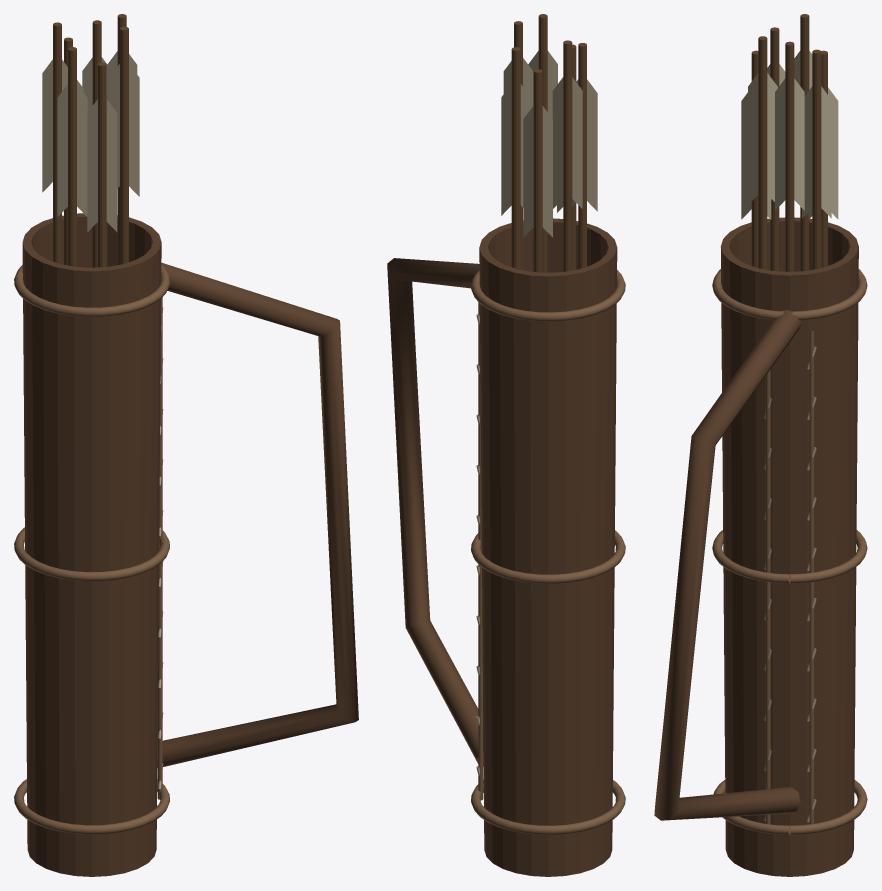
File: period_quiver.glb
3 renders of one model, left to right at view 1: azimuth 30°, elevation 25°; view 2: azimuth 150°, elevation 25°; view 3: azimuth 270°, elevation 25°, orthographic.
Parts seen in each view (by area): view 1: Leather quiver shell and open rim, Shoulder carry strap, Arrow 07 hardwood shaft, Reinforcing leather band, Reinforcing leather band.001, Arrow 05 hardwood shaft, Reinforcing leather band.002, Quiver vertical seam, Arrow 06 hardwood shaft, Arrow 04 hardwood shaft, Arrow 06 feather 0, Arrow 06 feather 1 (+5 smaller); view 2: Leather quiver shell and open rim, Shoulder carry strap, Arrow 04 hardwood shaft, Arrow 02 hardwood shaft, Arrow 03 hardwood shaft, Reinforcing leather band, Reinforcing leather band.001, Reinforcing leather band.002, Quiver vertical seam.001, Arrow 05 hardwood shaft, Arrow 04 feather 0, Arrow 03 feather 2 (+9 smaller); view 3: Leather quiver shell and open rim, Shoulder carry strap, Quiver vertical seam.001, Quiver vertical seam, Arrow 07 hardwood shaft, Arrow 01 hardwood shaft, Arrow 02 hardwood shaft, Reinforcing leather band.001, Reinforcing leather band, Reinforcing leather band.002, Arrow 04 hardwood shaft, Arrow 01 feather 2 (+10 smaller).
Boxes of the visible parts, x1,y1,x2,y2 form: Leather quiver shell and open rim: (22,213,161,876); Shoulder carry strap: (157,262,358,767); Arrow 07 hardwood shaft: (120,26,128,264); Reinforcing leather band: (14,779,169,834); Reinforcing leather band.001: (14,527,169,581); Arrow 05 hardwood shaft: (68,47,76,266); Reinforcing leather band.002: (14,265,169,316); Quiver vertical seam: (157,297,162,799); Arrow 06 hardwood shaft: (98,62,106,267); Arrow 04 hardwood shaft: (53,22,61,264); Arrow 06 feather 0: (106,99,117,232); Arrow 06 feather 1: (87,99,97,232); Leather quiver shell and open rim: (479,218,617,876); Shoulder carry strap: (387,258,483,766); Arrow 04 hardwood shaft: (563,40,572,271); Arrow 02 hardwood shaft: (511,47,520,269); Arrow 03 hardwood shaft: (533,69,542,272); Reinforcing leather band: (471,780,625,834); Reinforcing leather band.001: (471,530,625,583); Reinforcing leather band.002: (471,270,625,321); Quiver vertical seam.001: (478,302,483,800); Arrow 05 hardwood shaft: (578,43,586,269); Arrow 04 feather 0: (552,77,563,208); Arrow 03 feather 2: (542,106,552,237); Leather quiver shell and open rim: (720,217,858,876); Shoulder carry strap: (654,310,801,820); Quiver vertical seam.001: (809,329,813,833); Quiver vertical seam: (765,329,770,833); Arrow 07 hardwood shaft: (758,36,767,269); Arrow 01 hardwood shaft: (785,41,794,271); Arrow 02 hardwood shaft: (812,49,821,269); Reinforcing leather band.001: (712,530,867,583); Reinforcing leather band: (713,780,867,834); Reinforcing leather band.002: (712,269,867,320); Arrow 04 hardwood shaft: (800,14,809,271); Arrow 01 feather 2: (775,78,785,210).
Size of the model in its own units: 0.2526 by 0.7345 by 0.1728.
